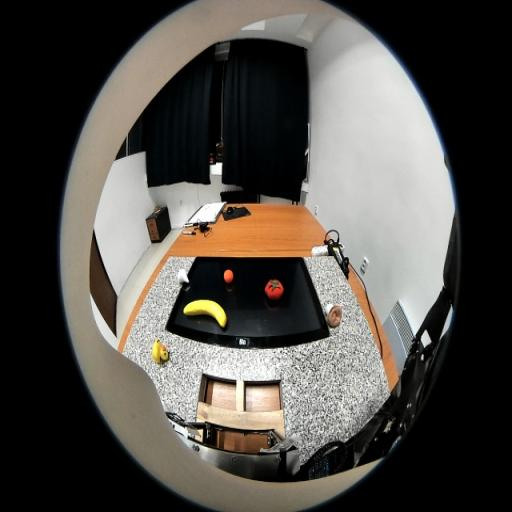Banana: (184, 300, 228, 328)
Duck: (152, 340, 169, 363)
Mushroom: (324, 304, 342, 328)
Onion: (178, 269, 190, 283)
Orange: (223, 268, 234, 284)
Tomato: (264, 279, 284, 300)
